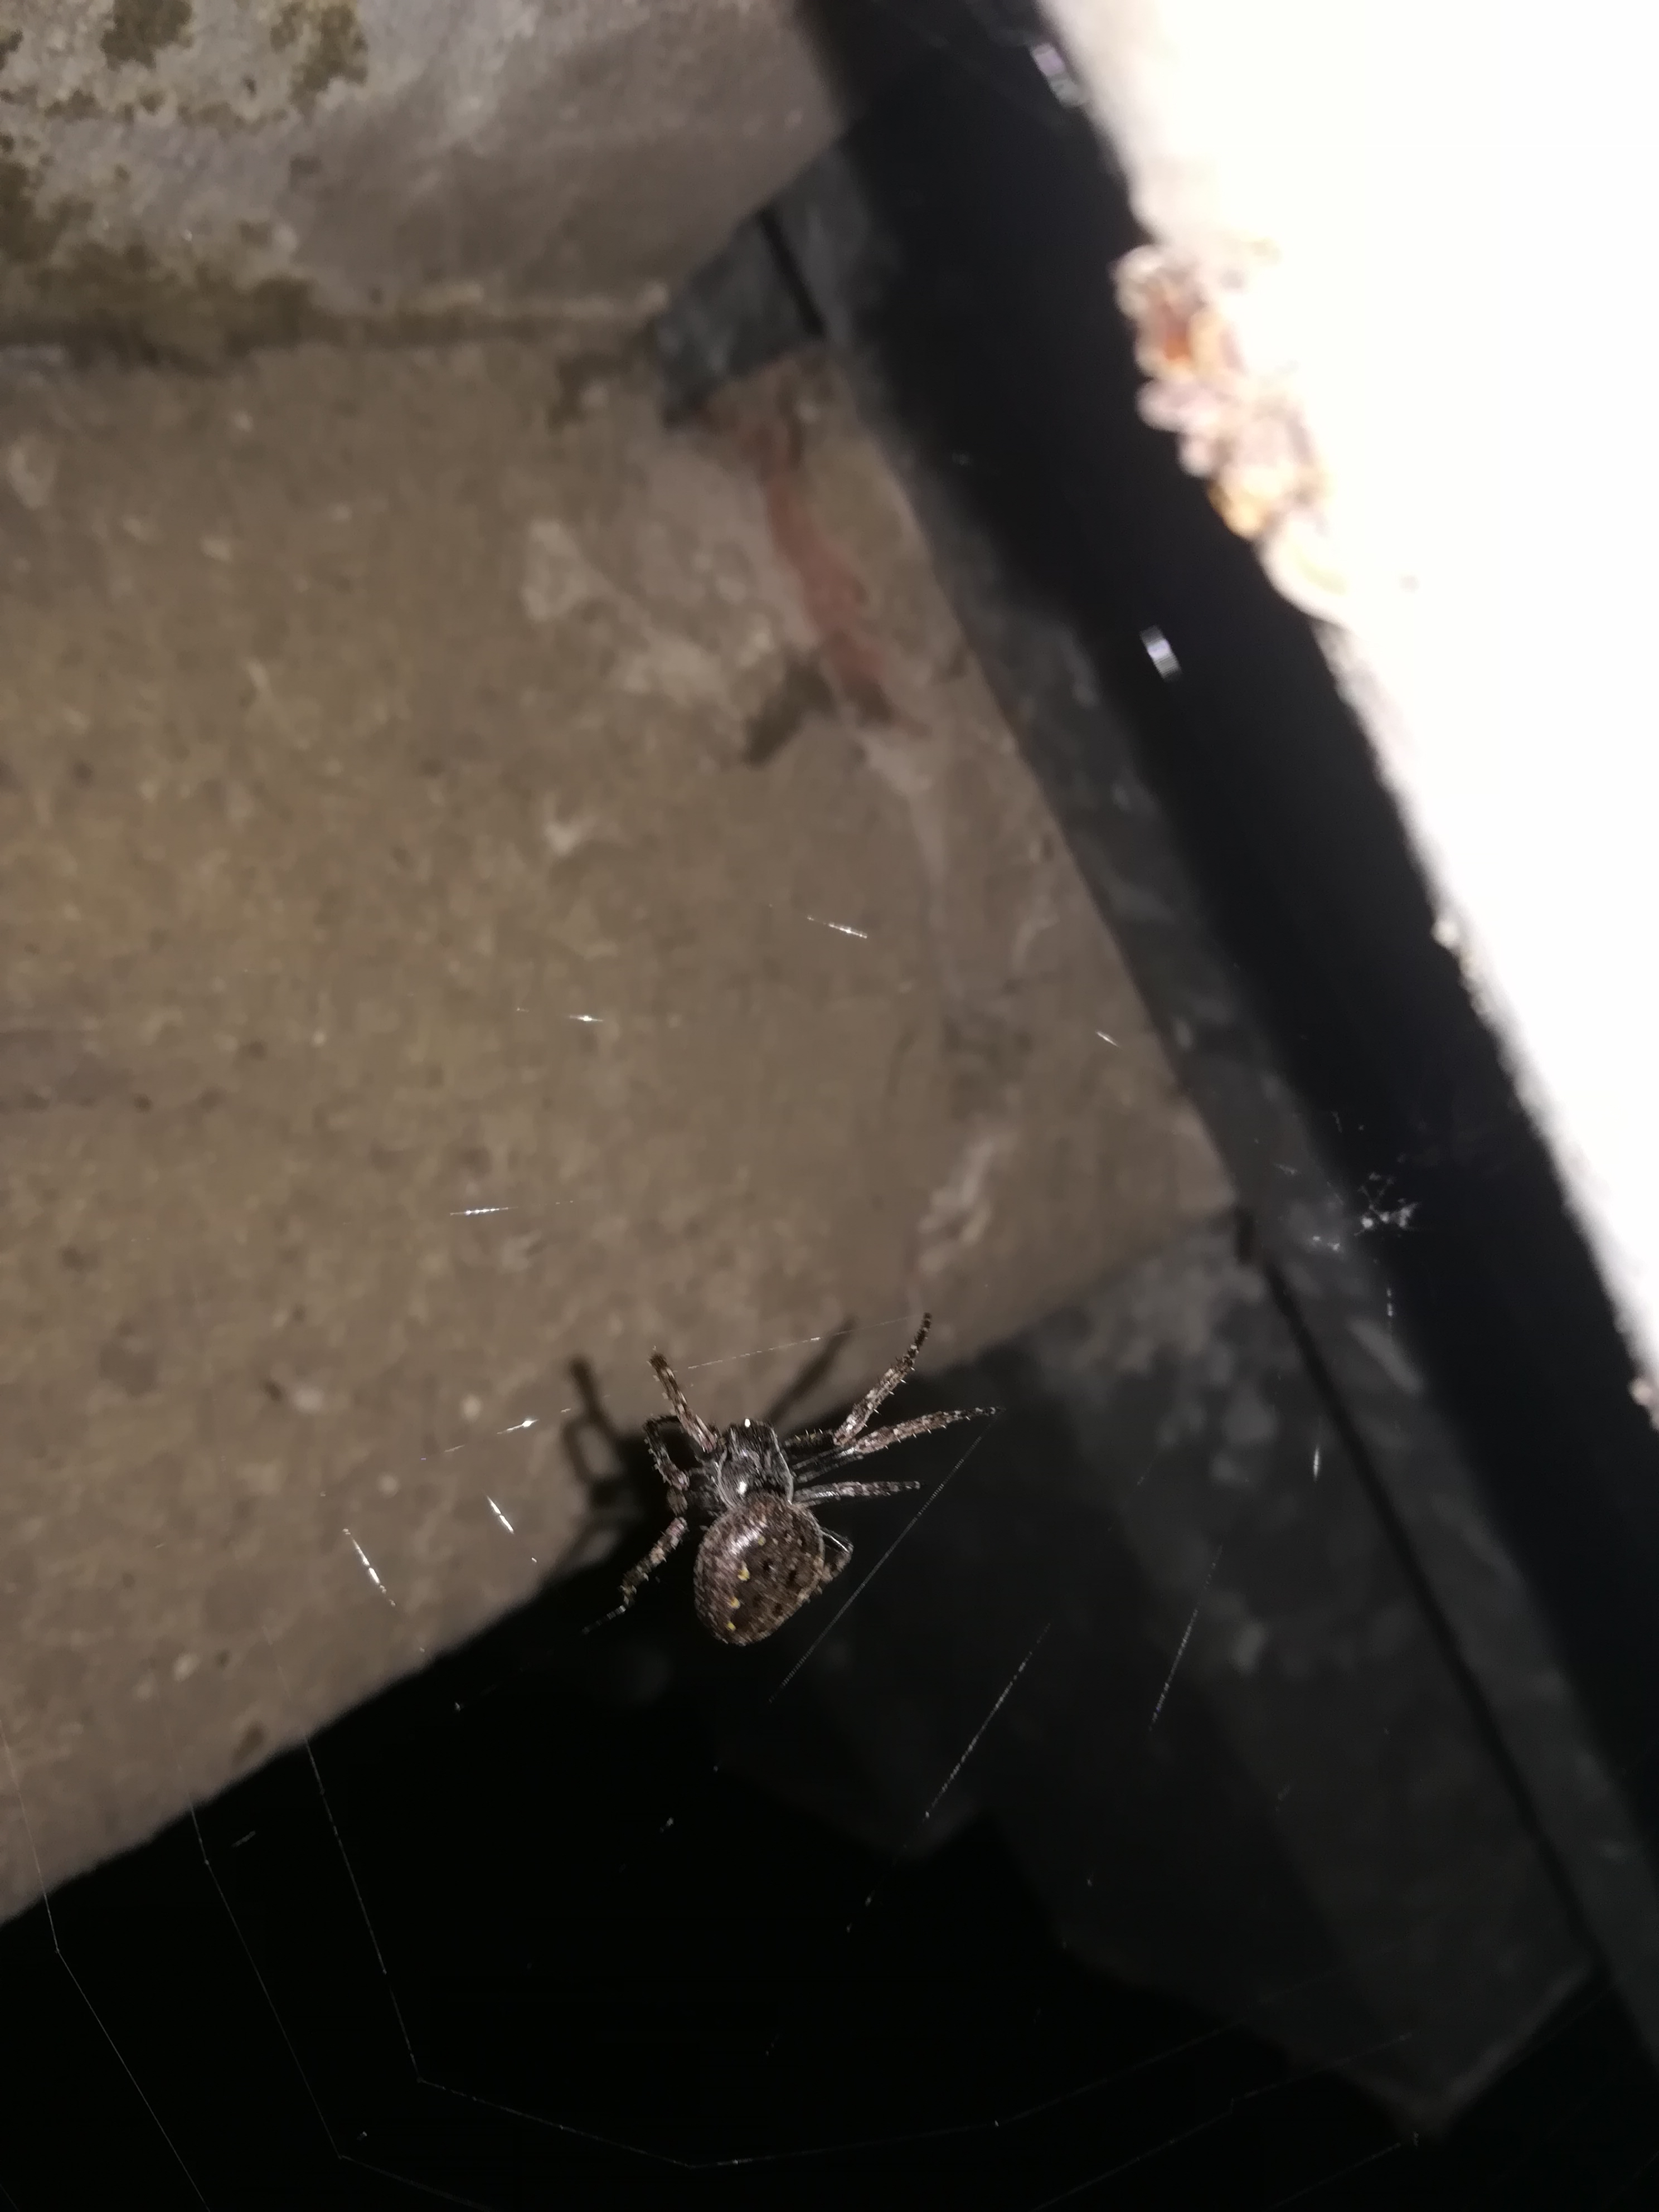spider: (523, 1263, 1066, 1700)
